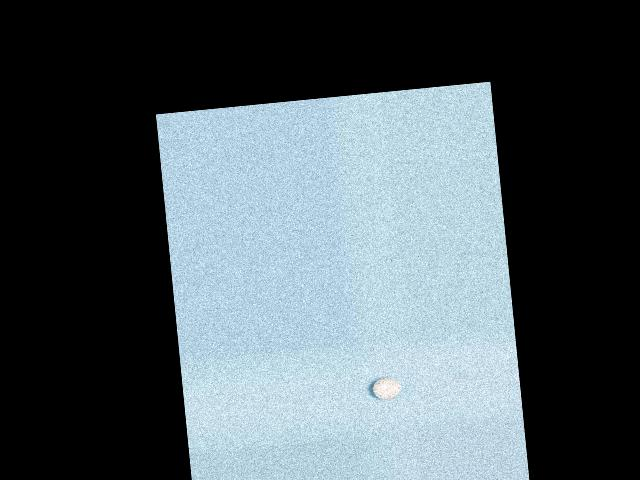egg: (371, 376, 402, 400)
